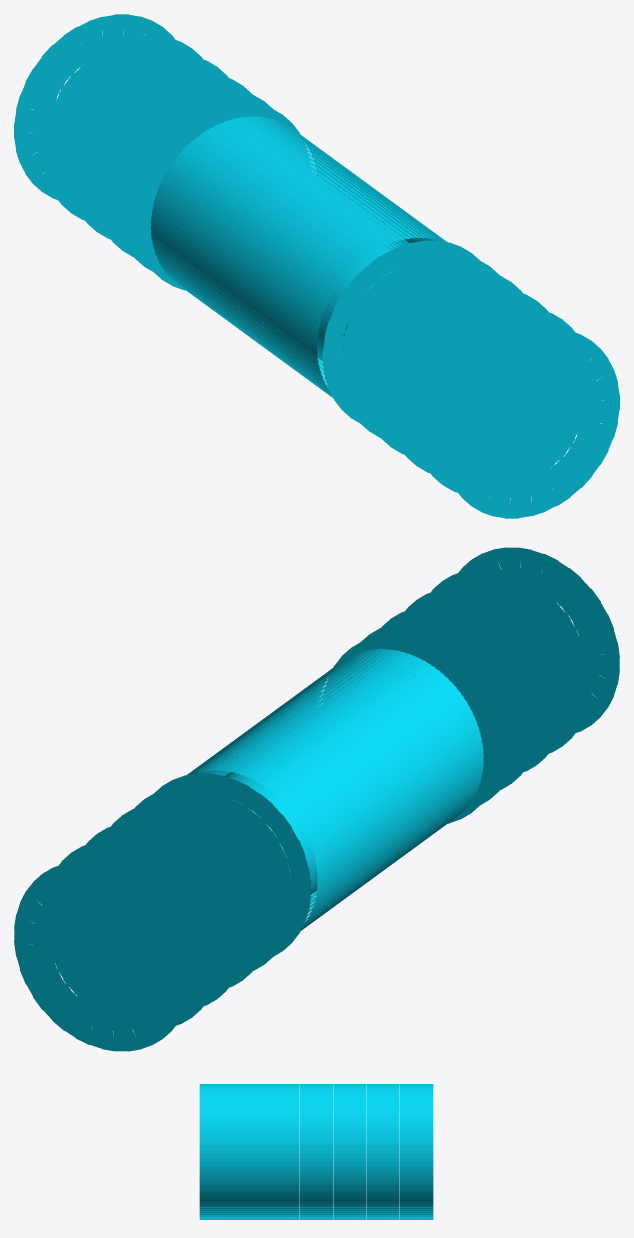
File: short_strips.gltf
The picture shows the model from 3 angles, top to bottom: view 1: azimuth 30°, elevation 25°; view 2: azimuth 150°, elevation 25°; view 3: azimuth 270°, elevation 25°; orthographic projection. The views are drawn at different scales.
Visible parts, largest first — view 1: ShortStrips_Barrel_sensitives_l7, ShortStrips_PositiveEndcap_sensitives_l11, ShortStrips_PositiveEndcap_sensitives_l9, ShortStrips_PositiveEndcap_sensitives_l7, ShortStrips_NegativeEndcap_sensitives_l1, ShortStrips_PositiveEndcap_sensitives_l5, ShortStrips_NegativeEndcap_sensitives_l3, ShortStrips_NegativeEndcap_sensitives_l5, ShortStrips_PositiveEndcap_sensitives_l3, ShortStrips_NegativeEndcap_sensitives_l7, ShortStrips_NegativeEndcap_sensitives_l11, ShortStrips_PositiveEndcap_sensitives_l1 (+2 smaller); view 2: ShortStrips_Barrel_sensitives_l7, ShortStrips_NegativeEndcap_sensitives_l1, ShortStrips_NegativeEndcap_sensitives_l3, ShortStrips_NegativeEndcap_sensitives_l5, ShortStrips_PositiveEndcap_sensitives_l11, ShortStrips_NegativeEndcap_sensitives_l7, ShortStrips_PositiveEndcap_sensitives_l7, ShortStrips_PositiveEndcap_sensitives_l9, ShortStrips_NegativeEndcap_sensitives_l9, ShortStrips_PositiveEndcap_sensitives_l5, ShortStrips_PositiveEndcap_sensitives_l1, ShortStrips_NegativeEndcap_sensitives_l11 (+2 smaller); view 3: ShortStrips_Barrel_sensitives_l7.
Part boxes in pixels (<box>): ShortStrips_Barrel_sensitives_l7: <box>150,116,447,397</box>; ShortStrips_PositiveEndcap_sensitives_l11: <box>443,328,619,518</box>; ShortStrips_PositiveEndcap_sensitives_l9: <box>414,307,588,495</box>; ShortStrips_PositiveEndcap_sensitives_l7: <box>388,288,552,473</box>; ShortStrips_NegativeEndcap_sensitives_l1: <box>14,14,175,199</box>; ShortStrips_PositiveEndcap_sensitives_l5: <box>363,269,522,454</box>; ShortStrips_NegativeEndcap_sensitives_l3: <box>43,35,202,220</box>; ShortStrips_NegativeEndcap_sensitives_l5: <box>68,54,228,238</box>; ShortStrips_PositiveEndcap_sensitives_l3: <box>341,253,499,437</box>; ShortStrips_NegativeEndcap_sensitives_l7: <box>94,73,252,257</box>; ShortStrips_NegativeEndcap_sensitives_l11: <box>134,102,310,290</box>; ShortStrips_PositiveEndcap_sensitives_l1: <box>322,240,478,422</box>; ShortStrips_Barrel_sensitives_l7: <box>187,648,483,930</box>; ShortStrips_NegativeEndcap_sensitives_l1: <box>14,861,190,1051</box>; ShortStrips_NegativeEndcap_sensitives_l3: <box>49,840,219,1026</box>; ShortStrips_NegativeEndcap_sensitives_l5: <box>81,821,245,1005</box>; ShortStrips_PositiveEndcap_sensitives_l11: <box>458,547,619,732</box>; ShortStrips_NegativeEndcap_sensitives_l7: <box>111,803,270,987</box>; ShortStrips_PositiveEndcap_sensitives_l7: <box>405,587,565,772</box>; ShortStrips_PositiveEndcap_sensitives_l9: <box>431,568,590,753</box>; ShortStrips_NegativeEndcap_sensitives_l9: <box>134,786,292,970</box>; ShortStrips_PositiveEndcap_sensitives_l5: <box>381,606,539,789</box>; ShortStrips_PositiveEndcap_sensitives_l1: <box>324,635,499,823</box>; ShortStrips_NegativeEndcap_sensitives_l11: <box>155,773,311,955</box>; ShortStrips_Barrel_sensitives_l7: <box>199,1084,433,1219</box>.
Size of the model in its own units: 1.4 by 1.4 by 5.92.
